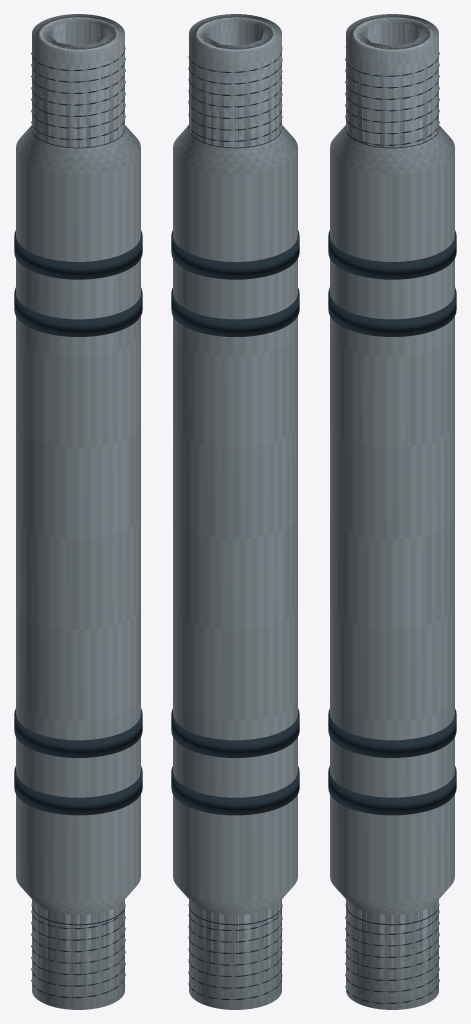
The model's file is safety.glb.
3 renders of one model, left to right at view 1: azimuth 90°, elevation 25°; view 2: azimuth 150°, elevation 25°; view 3: azimuth 270°, elevation 25°, orthographic.
Parts seen in each view (by area): view 1: tool-housing (×3), service-features (×2), uphole-connection (×4), downhole-connection (×3); view 2: tool-housing (×3), service-features (×2), uphole-connection (×4), downhole-connection (×3); view 3: tool-housing (×3), service-features (×2), uphole-connection (×4), downhole-connection (×3).
Boxes of the visible parts, left/top/right/bottom form: tool-housing (×3): left=16, top=14, right=140, bottom=1009; service-features (×2): left=14, top=230, right=142, bottom=815; uphole-connection (×4): left=31, top=14, right=125, bottom=148; downhole-connection (×3): left=31, top=900, right=125, bottom=1009; tool-housing (×3): left=173, top=14, right=297, bottom=1009; service-features (×2): left=171, top=230, right=299, bottom=815; uphole-connection (×4): left=188, top=14, right=282, bottom=148; downhole-connection (×3): left=188, top=900, right=282, bottom=1009; tool-housing (×3): left=330, top=14, right=454, bottom=1009; service-features (×2): left=328, top=230, right=456, bottom=815; uphole-connection (×4): left=345, top=14, right=439, bottom=148; downhole-connection (×3): left=345, top=900, right=439, bottom=1009.
Size of the model in its own units: 0.1226 by 1.01 by 0.1226.
Materials: 2 (2 with a texture image).
